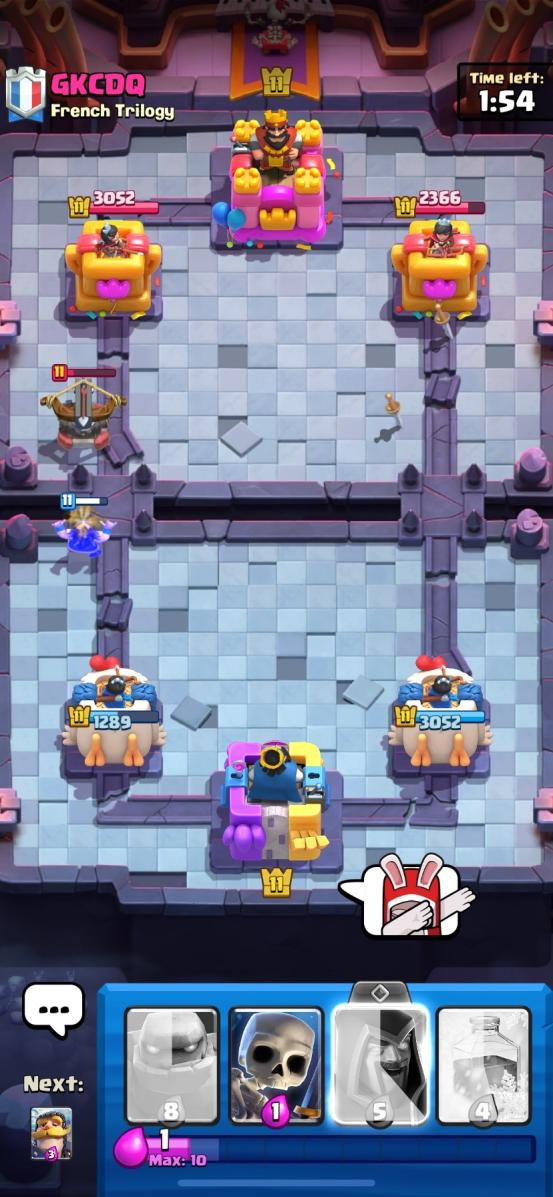EKingTower: (211, 110, 340, 250)
EXbow: (40, 365, 126, 451)
EnemyPrincessTower: (391, 192, 489, 324), (65, 218, 161, 319)
OElectroWizard: (53, 492, 116, 557)
OwnKingTower: (221, 742, 329, 863)
OwnPrincessTower: (388, 655, 491, 774), (63, 655, 165, 769)
